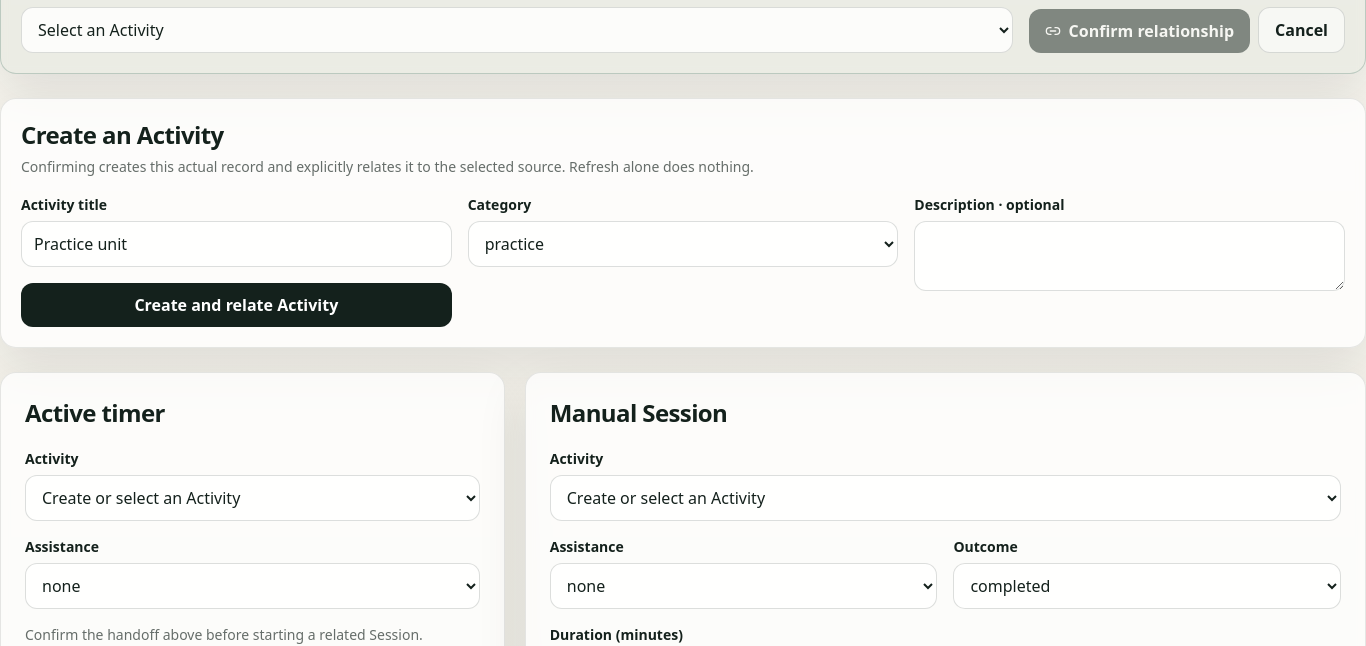
Scenario: V2 Activity handoff › keeps related Session controls disabled until confirmation and recovers a failed relation without duplicate Activity creation
(page scrolled)
Click the button "Create and relate Activity": (236, 305) [21,283,452,327]
(page scrolled)
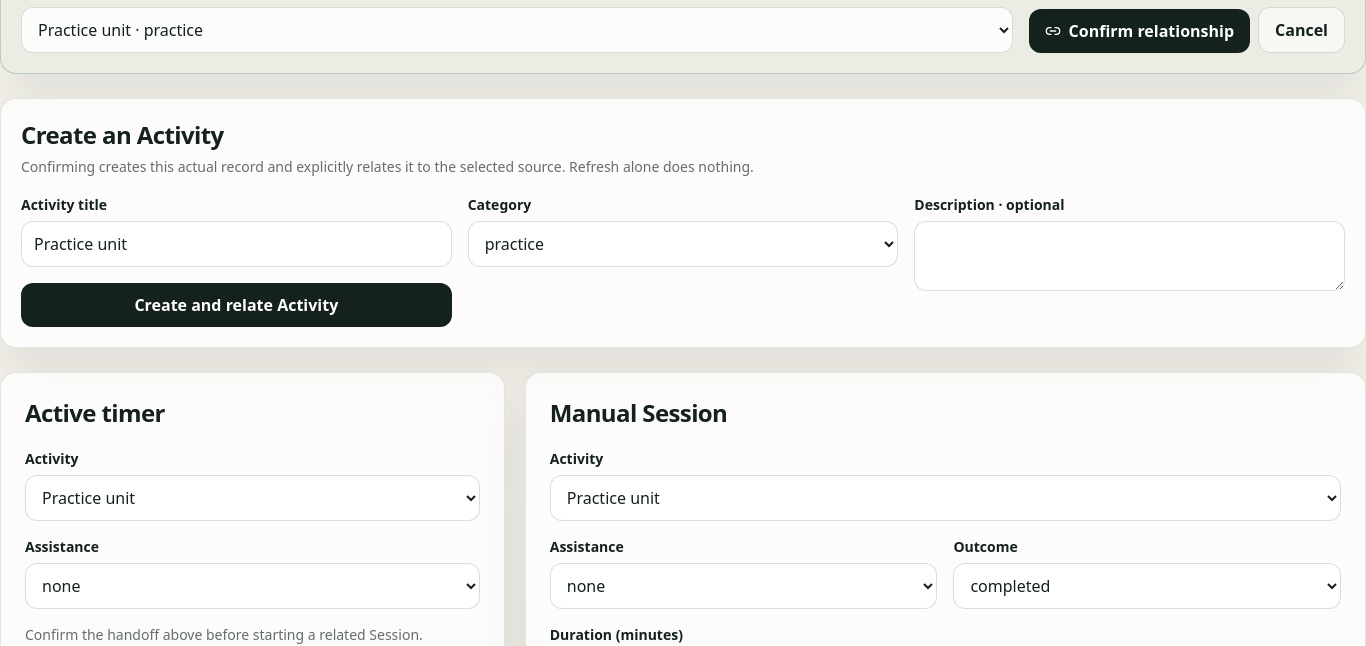
Click the button "Confirm relationship": (1139, 31) [1029,9,1250,53]
(page scrolled)
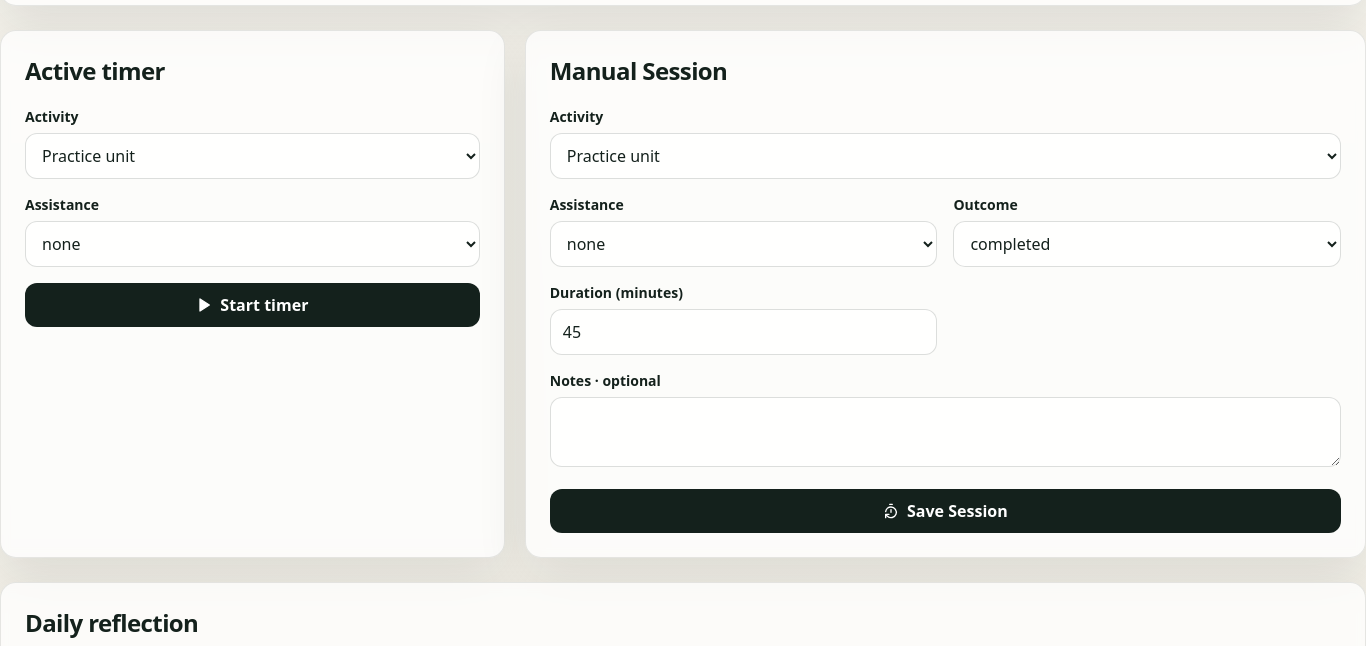
Check: the button "Start timer" is enabled, box [25,283,480,327]
